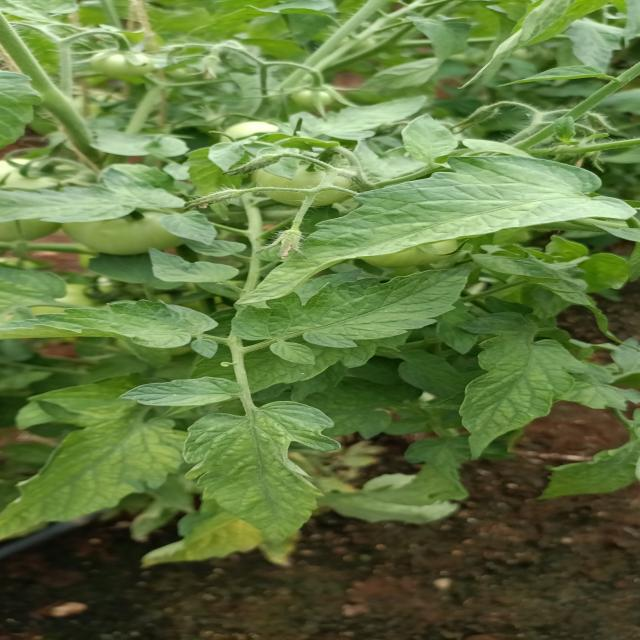Healthy Leaf: (247, 145, 635, 319), (164, 407, 383, 559), (0, 295, 219, 348), (107, 377, 255, 410)
